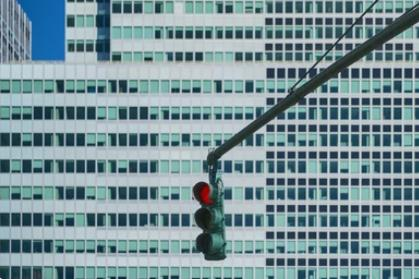red_light: (192, 181, 227, 261)
